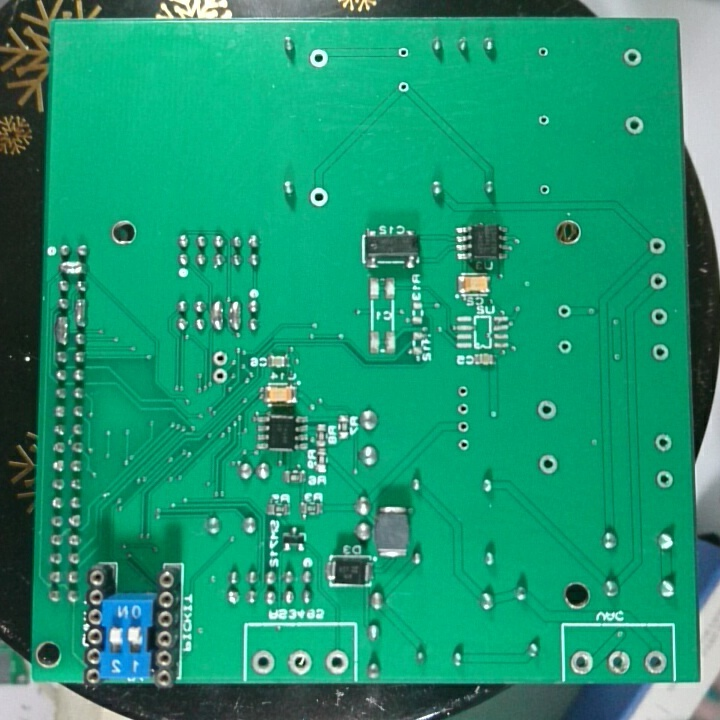F: (286, 647, 314, 678), (641, 647, 668, 679), (606, 647, 633, 678), (249, 648, 277, 677), (322, 648, 349, 678), (568, 649, 594, 677), (305, 184, 330, 209), (534, 398, 559, 423), (537, 452, 559, 478), (623, 114, 646, 138), (652, 431, 675, 455), (645, 235, 668, 258), (620, 47, 644, 69), (307, 47, 329, 69), (654, 469, 675, 492), (649, 342, 671, 363), (210, 365, 230, 387), (648, 306, 669, 326), (453, 434, 473, 455), (647, 271, 666, 292), (555, 302, 574, 322), (556, 337, 574, 358), (454, 383, 473, 402), (211, 349, 231, 367), (454, 400, 473, 418), (454, 416, 472, 435), (536, 181, 553, 198), (535, 112, 552, 128), (395, 44, 411, 60), (396, 79, 411, 95), (536, 44, 549, 59)
P: (53, 312, 71, 348), (56, 258, 88, 278), (72, 295, 89, 329), (209, 300, 226, 332), (227, 298, 243, 332)
